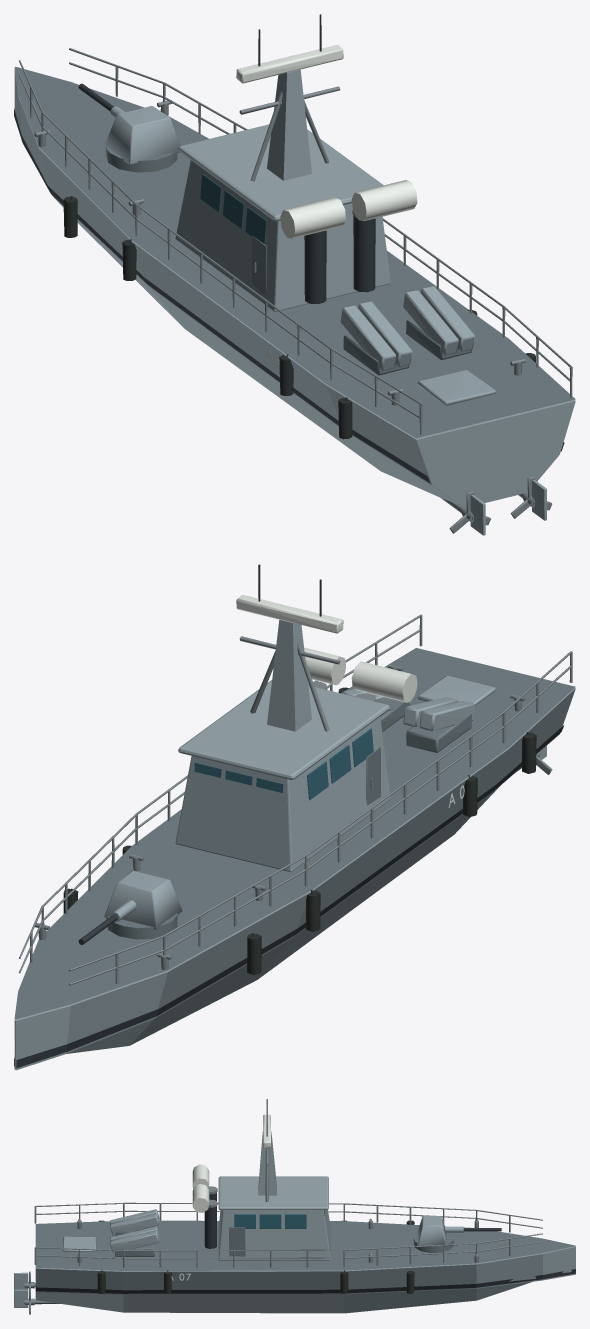
The model's file is faction_a_patrol_lod0.glb.
3 views of the same model, one above another, from view 1: azimuth 30°, elevation 25°; view 2: azimuth 150°, elevation 25°; view 3: azimuth 270°, elevation 25° (orthographic). The views are drawn at different scales.
Visible parts, largest first — view 1: static_batch_002_naval_static, static_batch_006_deck_static, static_batch_001_metal_static, static_batch_008_white_static, static_batch_000_black_static, static_batch_005_naval_static, static_batch_010_naval_static, static_batch_012_naval_static, static_batch_009_rubber_static, static_batch_007_glass_static, aft_deck_hatch, static_batch_004_deck_static (+3 smaller); view 2: static_batch_002_naval_static, static_batch_006_deck_static, static_batch_001_metal_static, static_batch_008_white_static, static_batch_000_black_static, static_batch_005_naval_static, static_batch_009_rubber_static, static_batch_007_glass_static, static_batch_010_naval_static, aft_deck_hatch, static_batch_011_deck_static, static_batch_004_deck_static (+1 smaller); view 3: static_batch_002_naval_static, static_batch_006_deck_static, static_batch_001_metal_static, static_batch_000_black_static, static_batch_008_white_static, static_batch_007_glass_static, static_batch_009_rubber_static, static_batch_010_naval_static, static_batch_012_naval_static, static_batch_005_naval_static, aft_deck_hatch, bridge_door.001 (+2 smaller).
Boxes of the visible parts, x1,y1,x2,y2 form: static_batch_002_naval_static: (14, 69, 575, 507); static_batch_006_deck_static: (14, 67, 575, 438); static_batch_001_metal_static: (19, 48, 572, 434); static_batch_008_white_static: (236, 45, 417, 366); static_batch_000_black_static: (14, 14, 564, 483); static_batch_005_naval_static: (104, 106, 180, 164); static_batch_010_naval_static: (340, 301, 412, 371); static_batch_012_naval_static: (403, 286, 474, 355); static_batch_009_rubber_static: (63, 196, 535, 439); static_batch_007_glass_static: (200, 174, 266, 244); aft_deck_hatch: (417, 370, 495, 405); static_batch_004_deck_static: (106, 146, 177, 172); static_batch_002_naval_static: (14, 619, 575, 1070); static_batch_006_deck_static: (14, 648, 575, 1019); static_batch_001_metal_static: (19, 614, 572, 985); static_batch_008_white_static: (236, 595, 464, 807); static_batch_000_black_static: (14, 564, 564, 1068); static_batch_005_naval_static: (104, 870, 182, 929); static_batch_009_rubber_static: (63, 687, 536, 975); static_batch_007_glass_static: (194, 728, 373, 800); static_batch_010_naval_static: (403, 697, 474, 731); aft_deck_hatch: (417, 675, 495, 705); static_batch_011_deck_static: (406, 713, 471, 752); static_batch_004_deck_static: (106, 913, 177, 939); static_batch_002_naval_static: (35, 1131, 575, 1313); static_batch_006_deck_static: (35, 1220, 575, 1270); static_batch_001_metal_static: (34, 1148, 542, 1267); static_batch_000_black_static: (35, 1099, 575, 1293); static_batch_008_white_static: (171, 1114, 270, 1280); static_batch_007_glass_static: (234, 1210, 324, 1228); static_batch_009_rubber_static: (97, 1220, 414, 1293); static_batch_010_naval_static: (110, 1209, 159, 1236); static_batch_012_naval_static: (110, 1226, 159, 1253); static_batch_005_naval_static: (417, 1215, 446, 1246); aft_deck_hatch: (63, 1236, 96, 1251); bridge_door.001: (229, 1227, 245, 1256).
Size of the model in its own units: 5.76 by 9.8 by 25.47.
